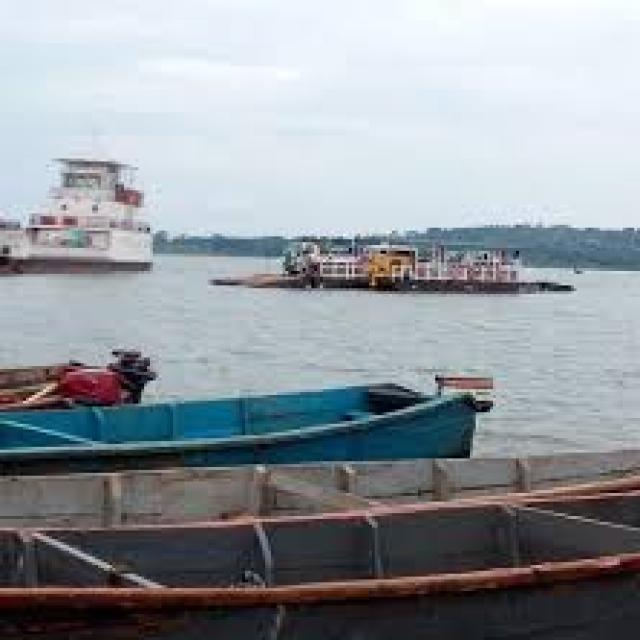fishing boat: (32, 348, 476, 454)
houseboat: (215, 222, 554, 322)
